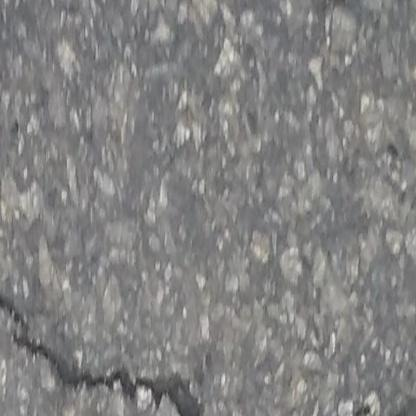Cracks: (0, 256, 223, 416), (380, 397, 416, 416)
